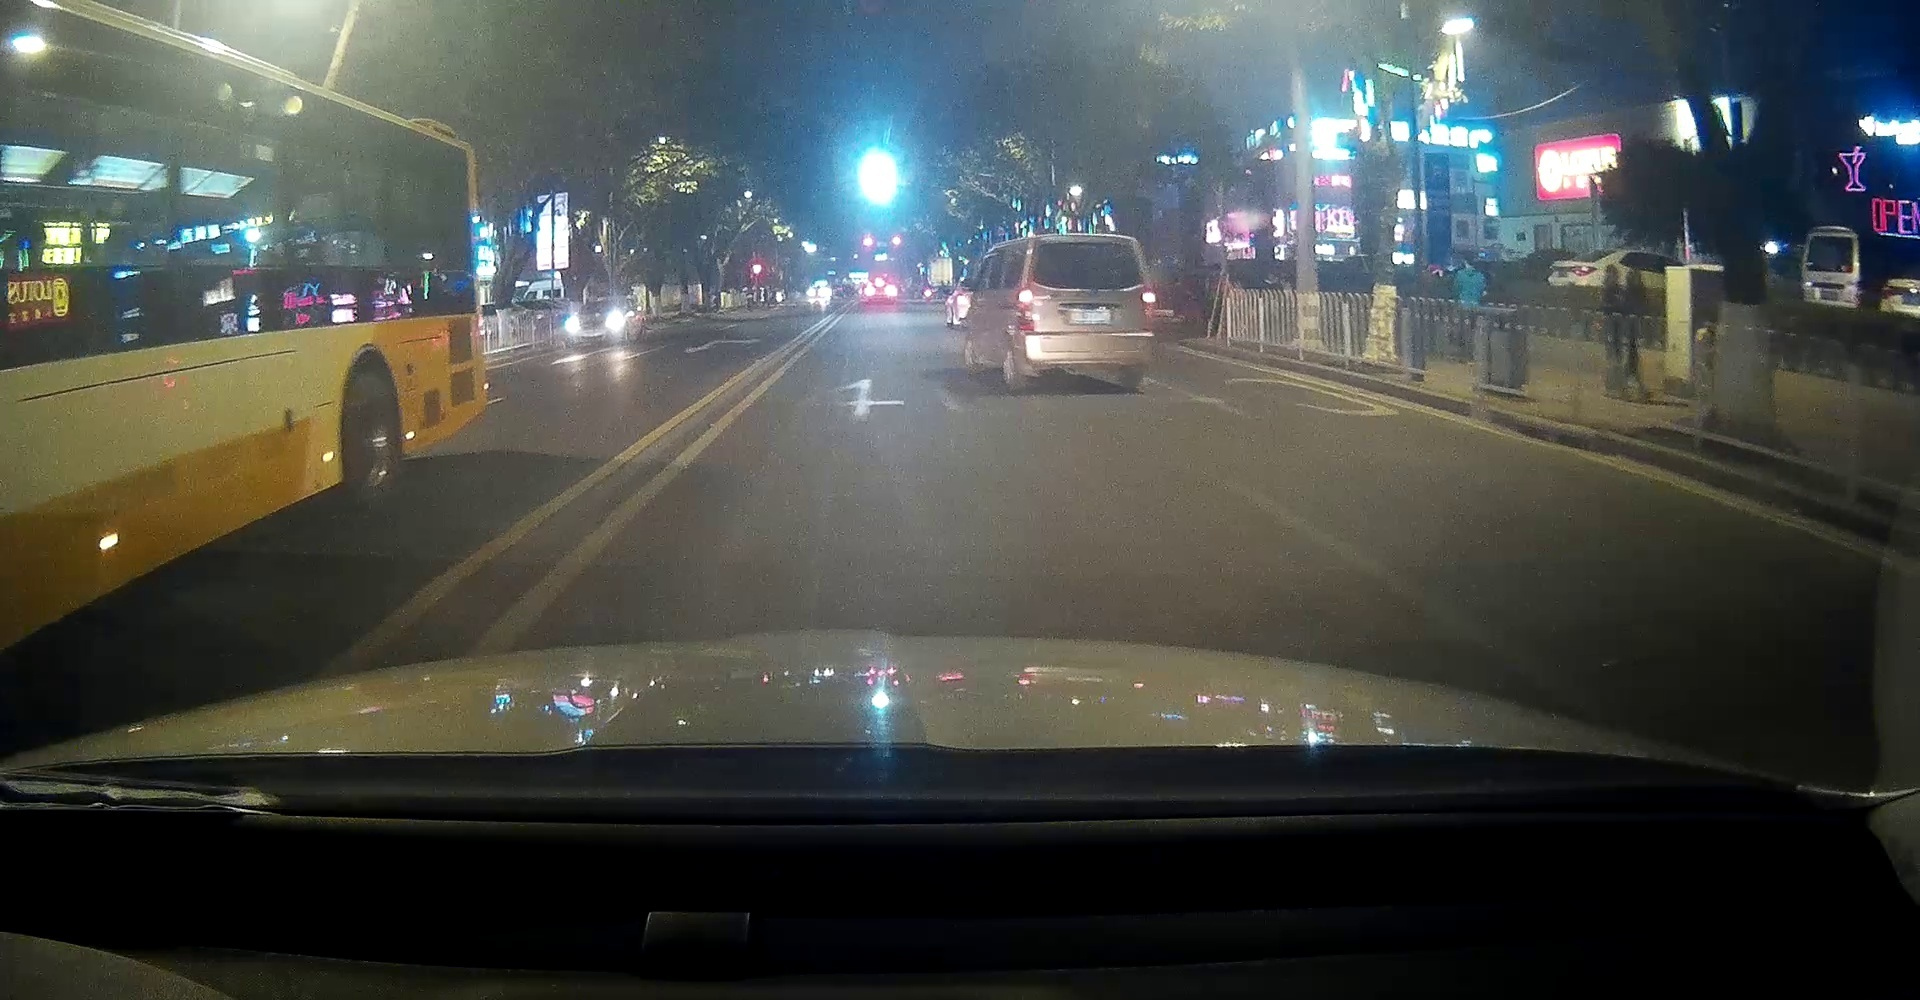L_light: (1015, 286, 1036, 331)
R_light: (1140, 286, 1156, 324)
T_light: (1078, 240, 1103, 247)
night-no: (1013, 234, 1157, 393)
